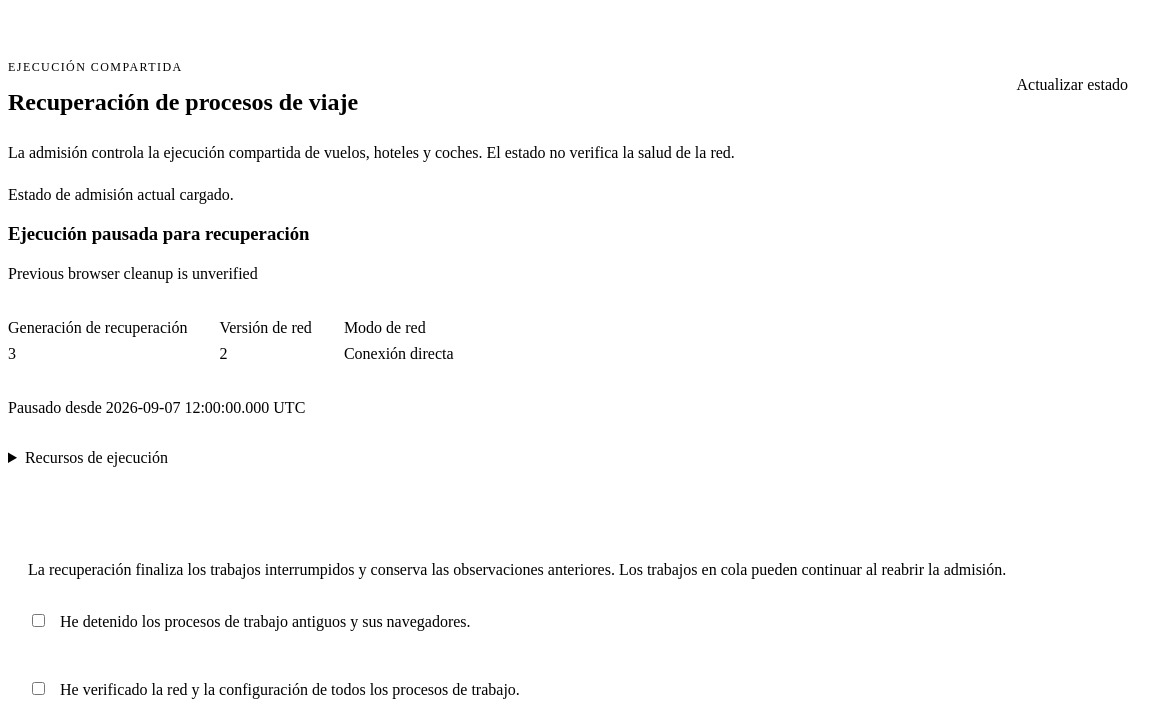
Test: explicit administrator travel recovery › requires both operator checks in es and submits only the current generation
Check: the heading "Ejecución pausada para recuperación" is shown, box [8,223,310,244]
Click the checkbox labelled "He detenido los procesos de trabajo antiguos y sus navegadores.".
click(38, 621)  # box [32,614,45,627]
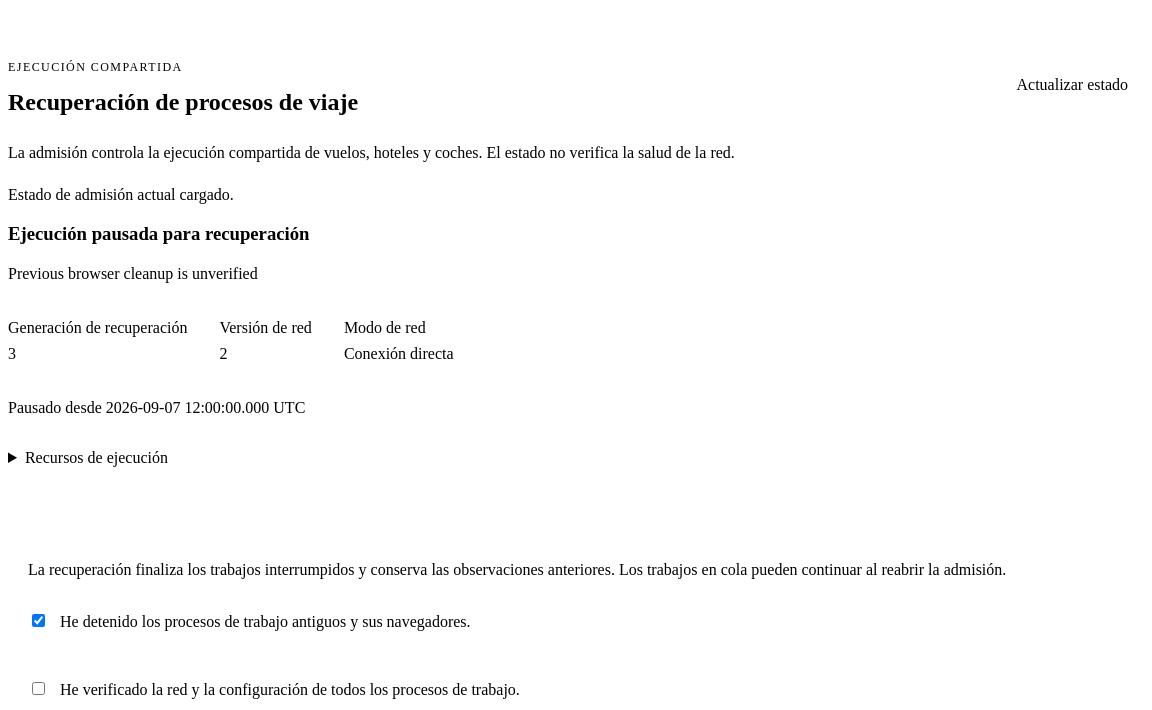
Click the checkbox labelled "He verificado la red y la configuración de todos los procesos de trabajo.".
click(38, 689)  # box [32,682,45,695]
(page scrolled)
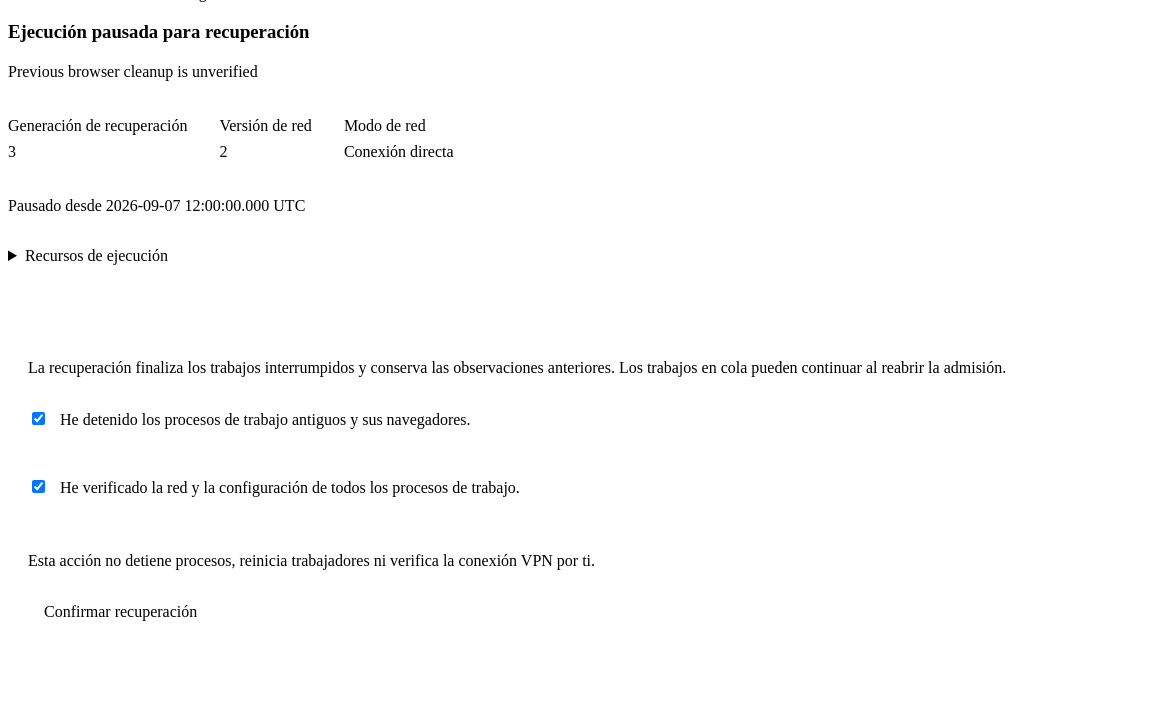
Click the button "Confirmar recuperación".
click(121, 612)  # box [28,590,213,634]
(page scrolled)
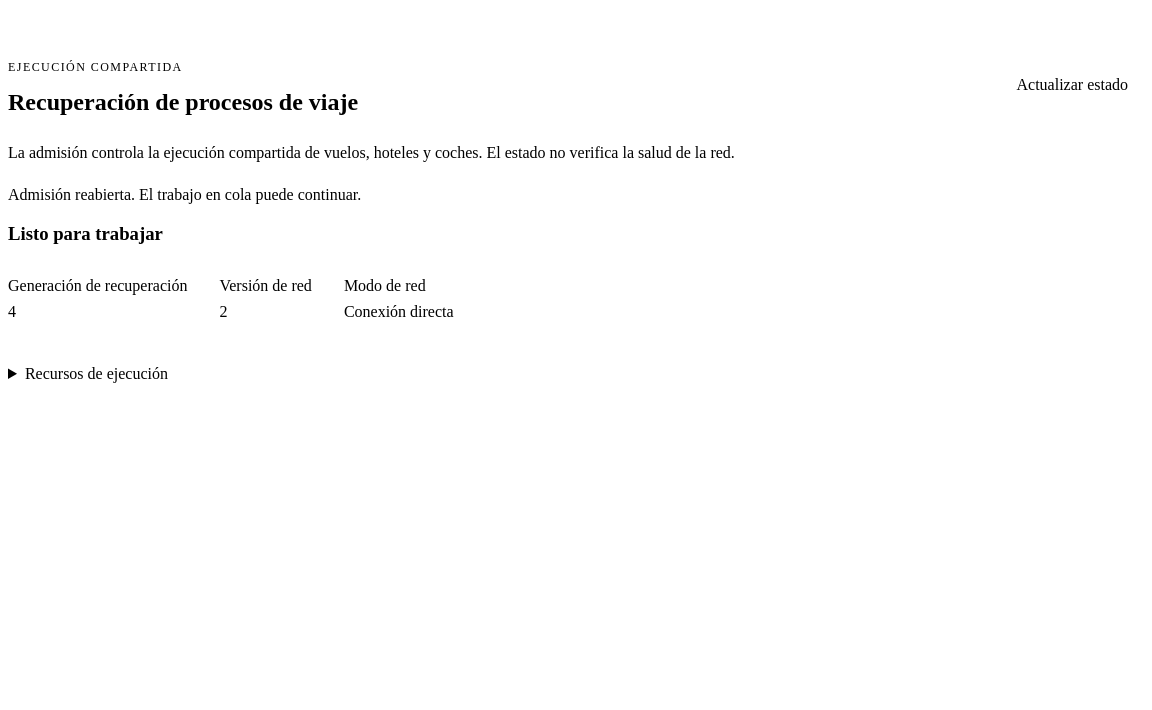
Check: the text "Admisión reabierta. El trabajo en cola puede continuar." is shown, box [8,186,361,203]
Check: the checkbox is gone
